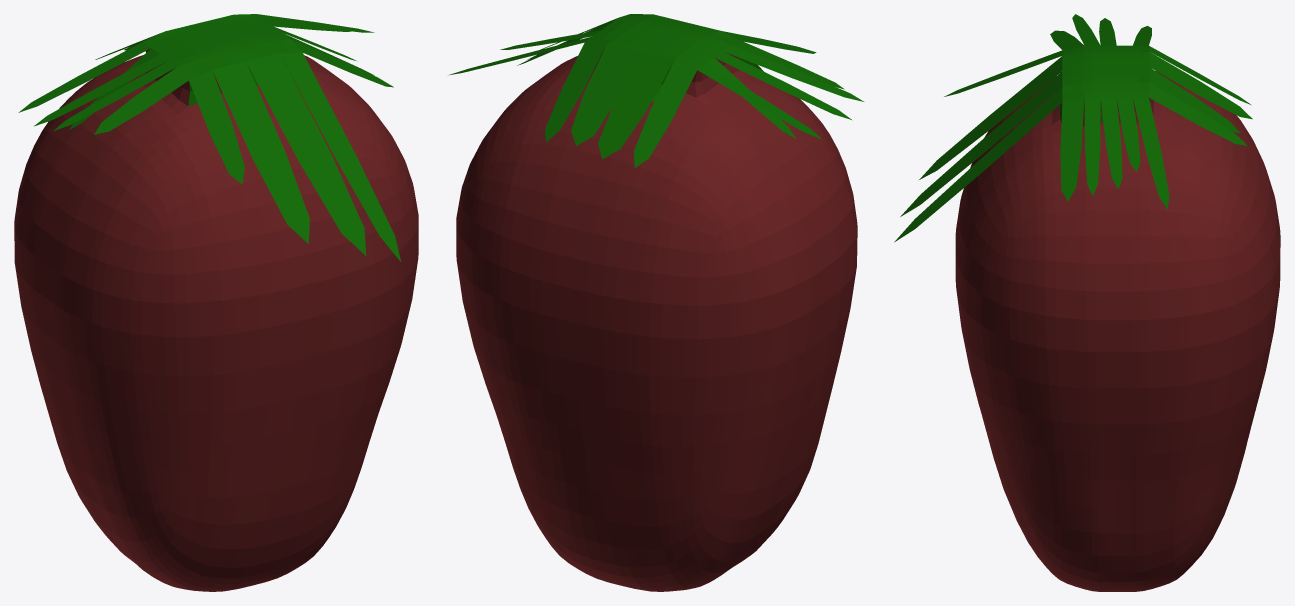
Rendered from Erdbeere.fbx.
3 views of the same model, side by side, from view 1: azimuth 30°, elevation 25°; view 2: azimuth 150°, elevation 25°; view 3: azimuth 270°, elevation 25° (orthographic). The views are drawn at different scales.
Parts seen in each view (by area): view 1: Cube; view 2: Cube; view 3: Cube.
Part boxes in pixels (<box>): Cube: <box>14,14,418,591</box>; Cube: <box>448,14,863,591</box>; Cube: <box>894,14,1280,591</box>.
Bounding box in the file's own units: 6.14 × 8.44 × 5.85.
